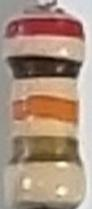Brown: (5, 55, 86, 81)
Orange: (10, 94, 80, 128)
Red: (2, 18, 86, 42)
Side-Gold: (8, 137, 83, 168)
